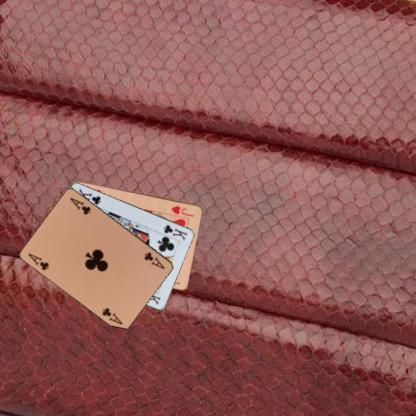Ac: (26, 250, 50, 272), (142, 250, 166, 270)
Jh: (168, 203, 196, 219)
Kc: (162, 221, 188, 242)
